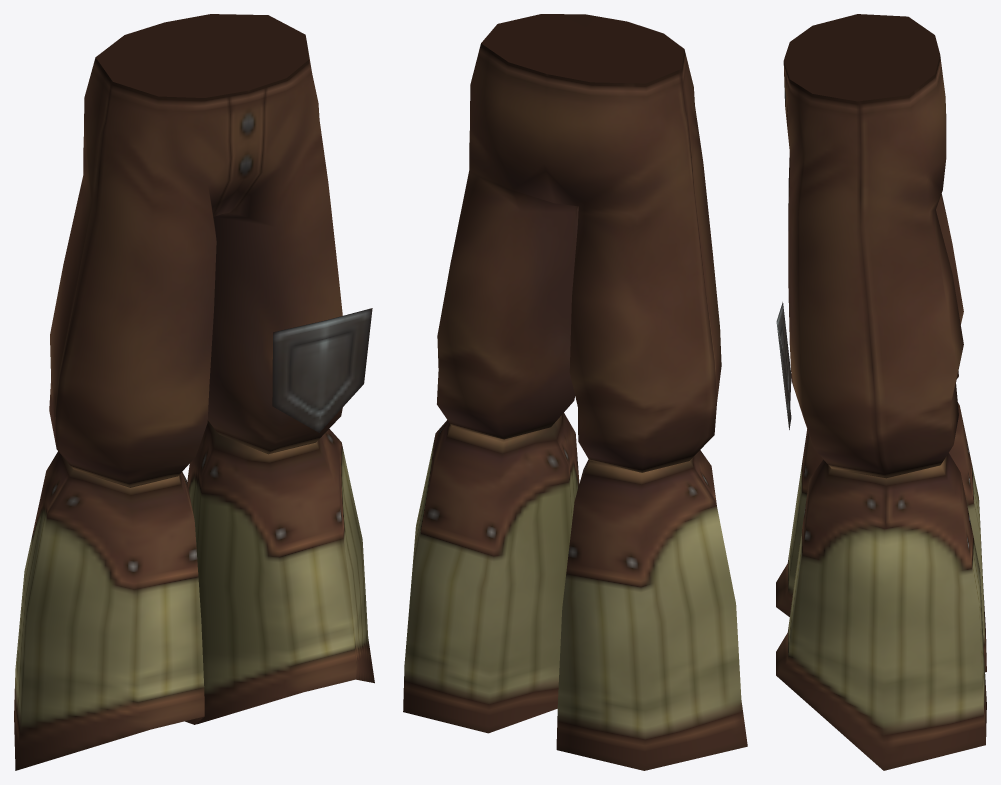
Rendered from hum_colonist_02_2c4c6ecc.glb.
3 renders of one model, left to right at view 1: azimuth 30°, elevation 25°; view 2: azimuth 150°, elevation 25°; view 3: azimuth 270°, elevation 25°, orthographic. The views are drawn at different scales.
Size of the model in its own units: 0.8237 by 1.49 by 0.45.
Materials: 1 (1 with a texture image).
